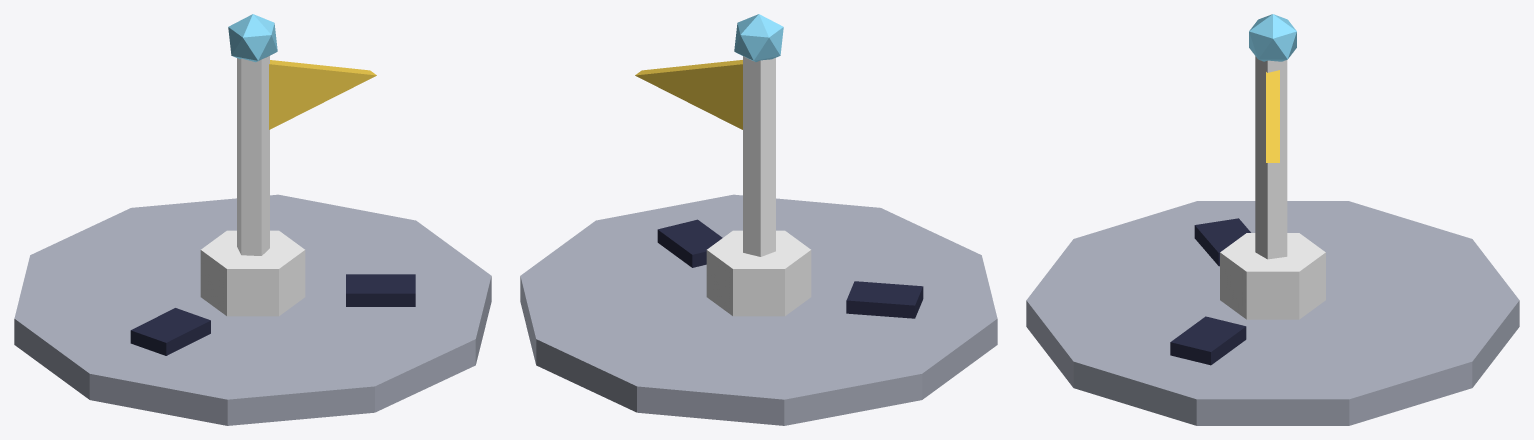
The model's file is space-landmark-s1.glb.
3 views of the same model, side by side, from view 1: azimuth 30°, elevation 25°; view 2: azimuth 150°, elevation 25°; view 3: azimuth 270°, elevation 25° (orthographic).
Parts seen in each view (by area): view 1: space-landmark-s1; view 2: space-landmark-s1; view 3: space-landmark-s1.
Part boxes in pixels (<box>): space-landmark-s1: <box>14,14,491,425</box>; space-landmark-s1: <box>520,14,997,425</box>; space-landmark-s1: <box>1026,14,1519,425</box>.
Size of the model in its own units: 0.7989 by 0.588 by 0.84.
